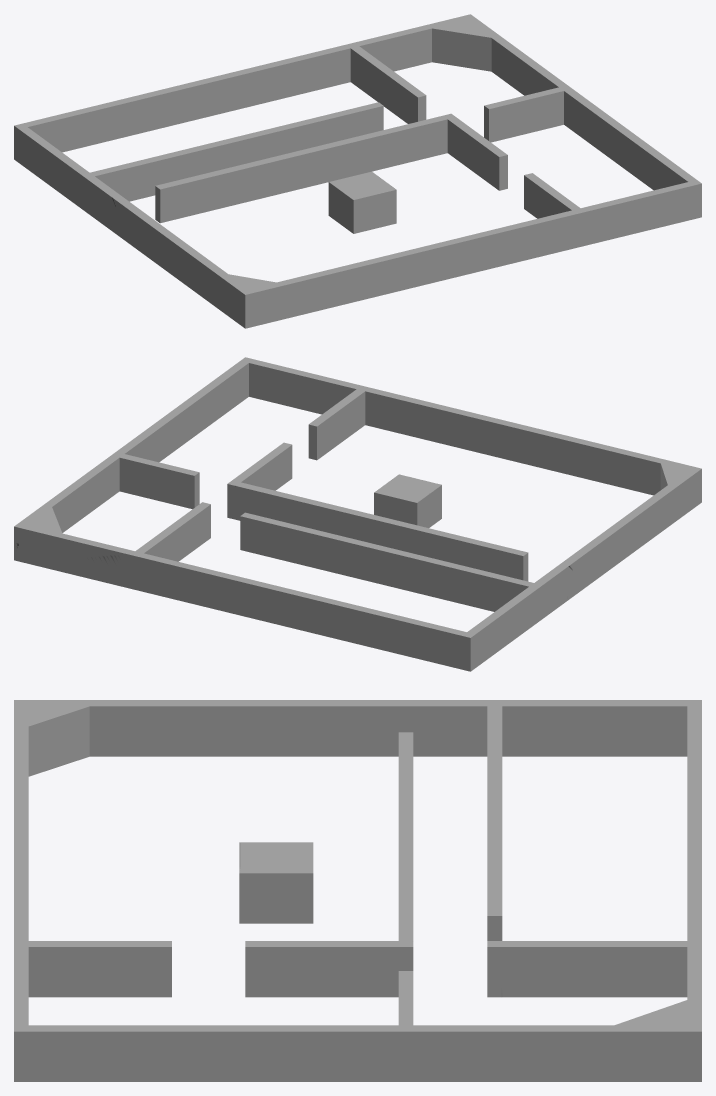
The model's file is simple_building.dae.
3 renders of one model, top to bottom at view 1: azimuth 30°, elevation 25°; view 2: azimuth 150°, elevation 25°; view 3: azimuth 270°, elevation 25°, orthographic. The views are drawn at different scales.
Visible parts, largest first — view 1: Plane; view 2: Plane; view 3: Plane.
Boxes of the visible parts, x1,y1,x2,y2 form: Plane: [14, 14, 701, 328]; Plane: [14, 357, 701, 671]; Plane: [14, 700, 701, 1081].
Size of the model in its own units: 21.2 by 18.6 by 1.75.
1 material, 1 textured.
